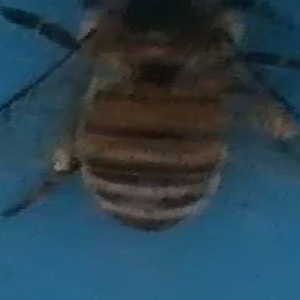bee: (2, 1, 298, 233)
